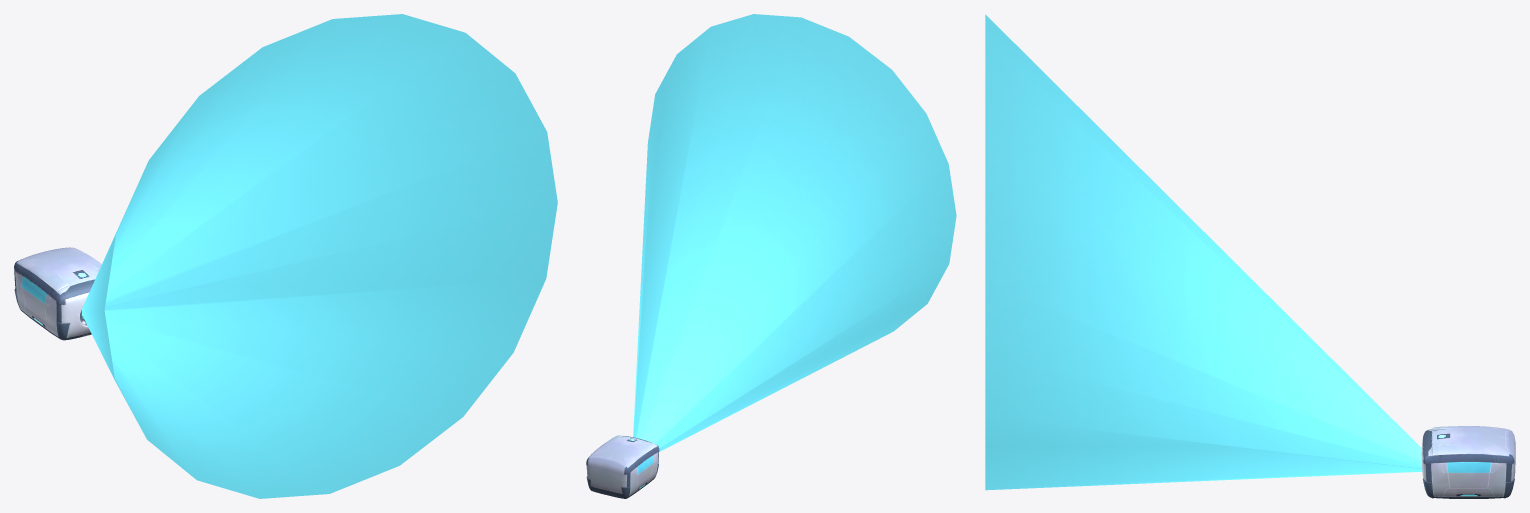
File: obj_projector.gltf
The picture shows the model from 3 angles, left to right: view 1: azimuth 30°, elevation 25°; view 2: azimuth 150°, elevation 25°; view 3: azimuth 270°, elevation 25°; orthographic projection. The views are drawn at different scales.
Visible parts, largest first — view 1: obj_projector; view 2: obj_projector; view 3: obj_projector.
Part boxes in pixels (x1=…): obj_projector: x1=14, y1=14, x2=557, y2=498; obj_projector: x1=586, y1=14, x2=956, y2=498; obj_projector: x1=985, y1=14, x2=1515, y2=498.
Size of what is drawn, in the model's own units: 4.18 by 4.38 by 4.62.
2 materials, 2 textured.
